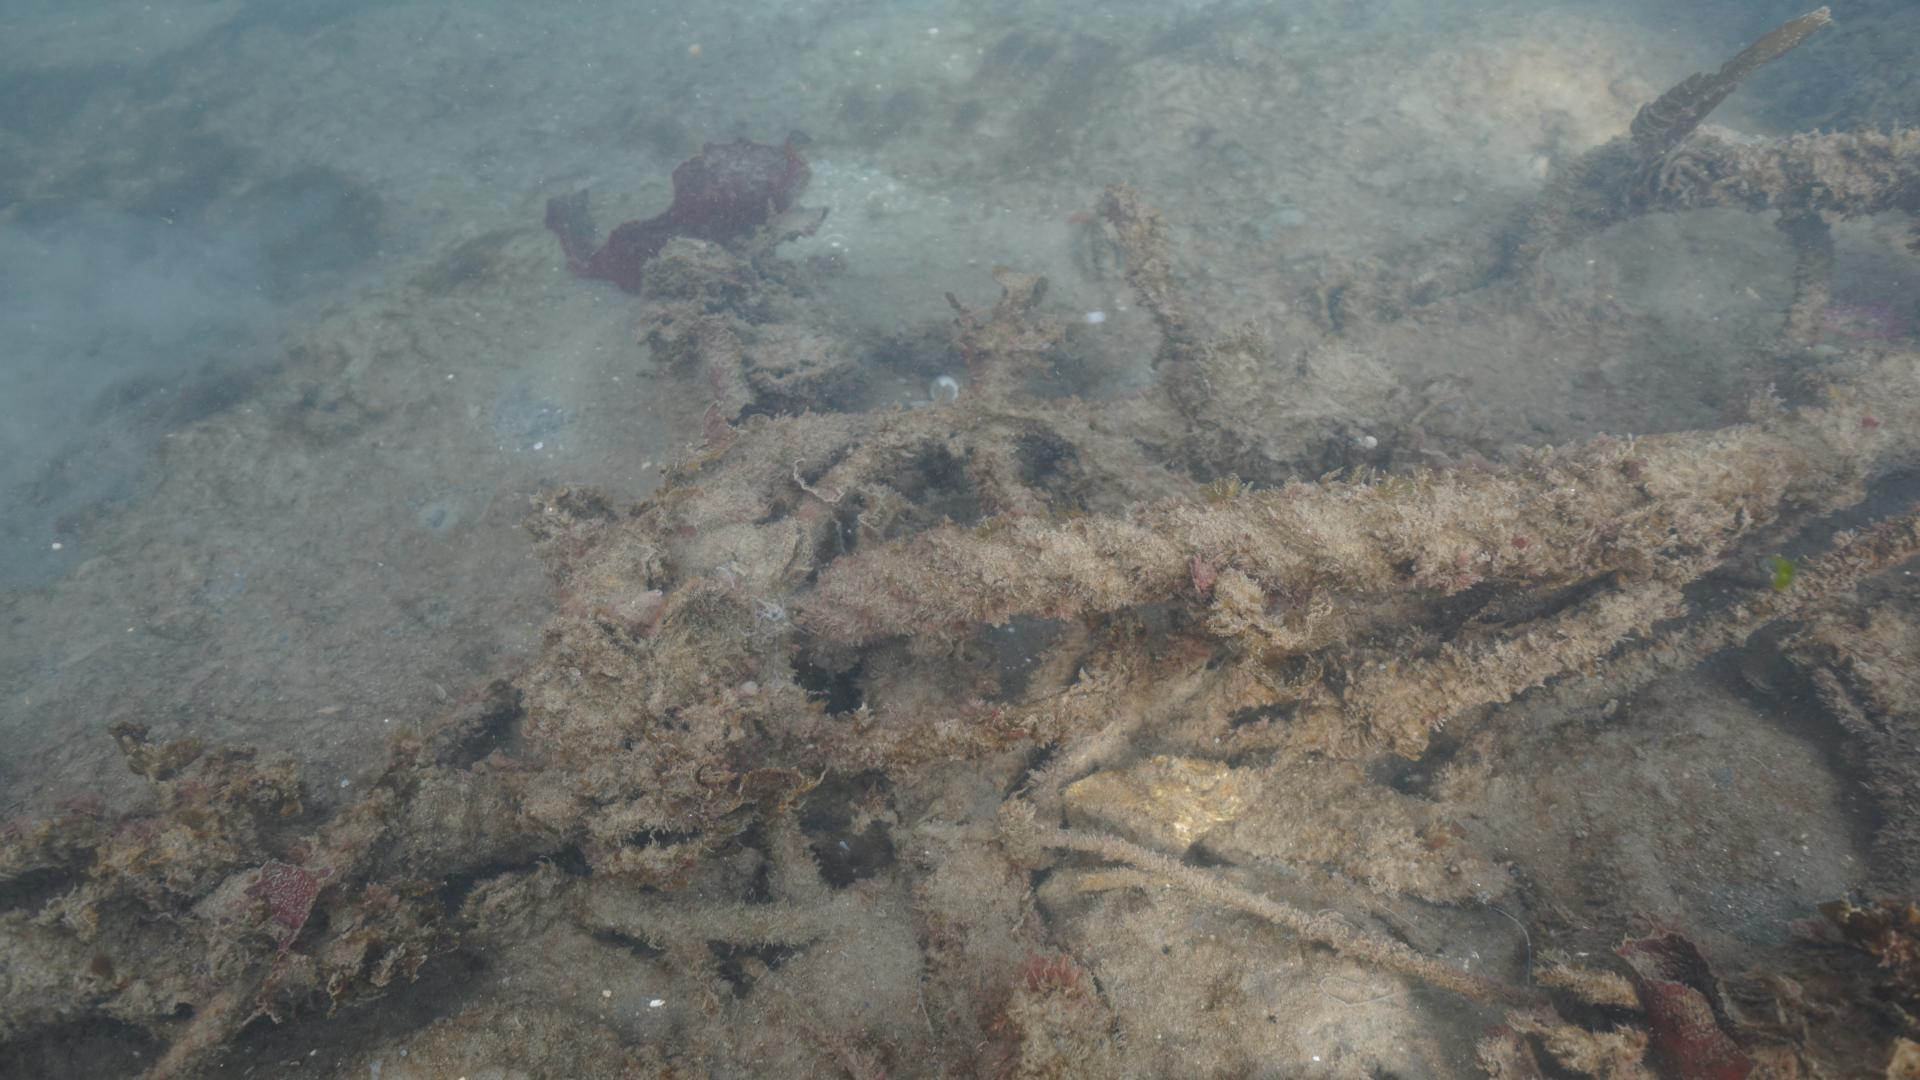rope: (781, 336, 1920, 684)
